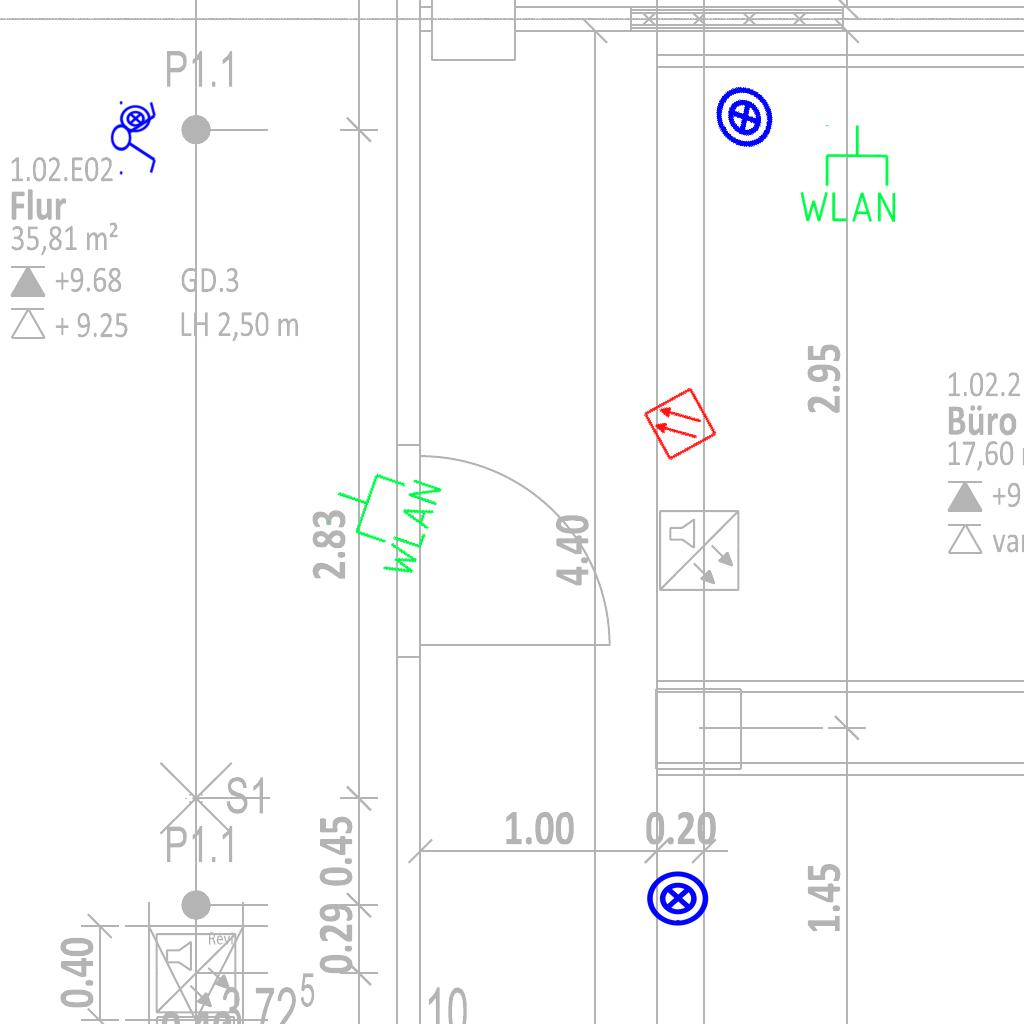RMO_Rauchmelder_optischer: (641, 385, 719, 463)
Serienschalter: (110, 95, 158, 179)
Taster_beleuchtet: (700, 72, 790, 162), (645, 865, 711, 931), (119, 102, 152, 135)
WLAN: (314, 451, 448, 586), (795, 122, 900, 226)
